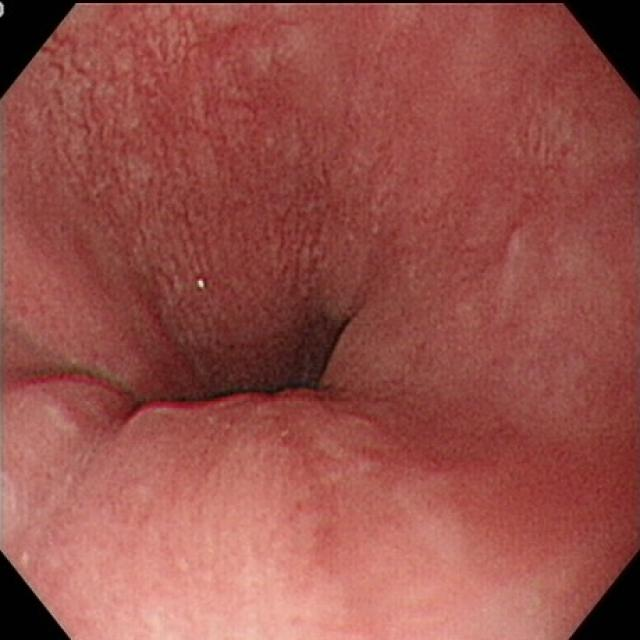E: (122, 312, 354, 417)
